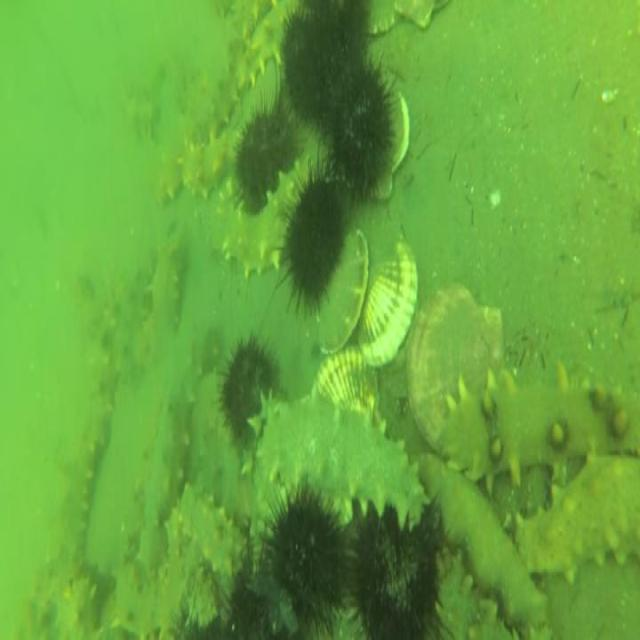echinus: (348, 498, 442, 640), (266, 491, 346, 629), (327, 60, 394, 194), (284, 172, 344, 313), (281, 10, 345, 130), (238, 96, 295, 212), (220, 336, 274, 446), (224, 570, 268, 637)
holothurian: (410, 449, 552, 640), (248, 386, 428, 534), (432, 366, 640, 494), (514, 447, 640, 584), (202, 153, 316, 278), (198, 0, 290, 147), (134, 368, 196, 571), (109, 540, 207, 640), (153, 58, 206, 216), (433, 543, 519, 640), (174, 477, 250, 583), (132, 228, 186, 374), (52, 430, 97, 577), (178, 123, 250, 204), (88, 302, 123, 420), (57, 567, 100, 640), (230, 0, 271, 47)
scallop: (407, 275, 508, 449), (353, 228, 421, 366), (314, 223, 370, 355), (311, 345, 388, 436), (370, 89, 410, 202), (391, 0, 457, 36), (368, 0, 404, 43)
